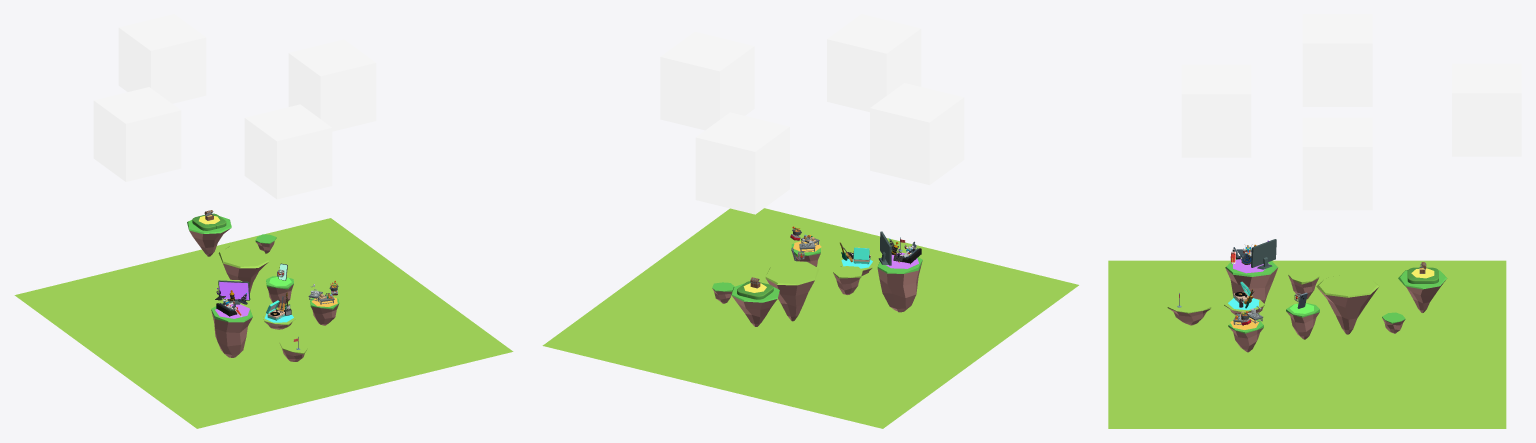
File: our.glb
The picture shows the model from 3 angles, left to right: view 1: azimuth 30°, elevation 25°; view 2: azimuth 150°, elevation 25°; view 3: azimuth 270°, elevation 25°; orthographic projection. The views are drawn at different scales.
Parts seen in each view (by area): view 1: Plane, Cube, Cube.001, Cube.002, Cube.003, Island03_Cylinder.002, Cylinder.001, Island03_Cylinder.001, Island01_Cylinder.001, Island01_Cylinder.005; view 2: Plane, Cube.002, Cube.001, Cube.003, Cube, Island03_Cylinder.002, Cylinder.001, Island03_Cylinder.001, Island01_Cylinder.004; view 3: Plane, Cube, Cube.003, Cube.001, Cube.002, Island03_Cylinder.002, Cylinder.001, Island03_Cylinder.001, Island01_Cylinder.001, Island01_Cylinder.004, Island01_Cylinder.005, computerScreen (+1 smaller).
Part boxes in pixels (x1,y1,x2,y2): Plane: (14, 218, 513, 428); Cube: (244, 104, 332, 199); Cube.001: (93, 87, 181, 181); Cube.002: (118, 14, 206, 103); Cube.003: (288, 39, 376, 131); Island03_Cylinder.002: (218, 245, 268, 292); Cylinder.001: (211, 306, 252, 357); Island03_Cylinder.001: (187, 216, 231, 256); Island01_Cylinder.001: (279, 338, 307, 361); Island01_Cylinder.005: (266, 276, 293, 308); Plane: (542, 208, 1078, 428); Cube.002: (695, 112, 789, 214); Cube.001: (870, 83, 964, 184); Cube.003: (660, 32, 754, 130); Cube: (827, 14, 921, 112); Island03_Cylinder.002: (765, 260, 819, 321); Cylinder.001: (877, 257, 922, 312); Island03_Cylinder.001: (731, 283, 779, 326); Island01_Cylinder.004: (833, 266, 862, 294); Plane: (1108, 260, 1506, 428); Cube: (1181, 64, 1251, 157); Cube.003: (1302, 117, 1372, 210); Cube.001: (1302, 14, 1372, 106); Cube.002: (1452, 63, 1521, 156); Island03_Cylinder.002: (1316, 274, 1379, 334); Cylinder.001: (1225, 259, 1278, 313); Island03_Cylinder.001: (1398, 267, 1447, 312); Island01_Cylinder.001: (1167, 301, 1211, 325); Island01_Cylinder.004: (1288, 268, 1319, 299); Island01_Cylinder.005: (1286, 303, 1319, 339); computerScreen: (1251, 239, 1276, 269).
Size of the model in its own units: 177 by 127 by 184.
Materials: 94 (14 with a texture image).
